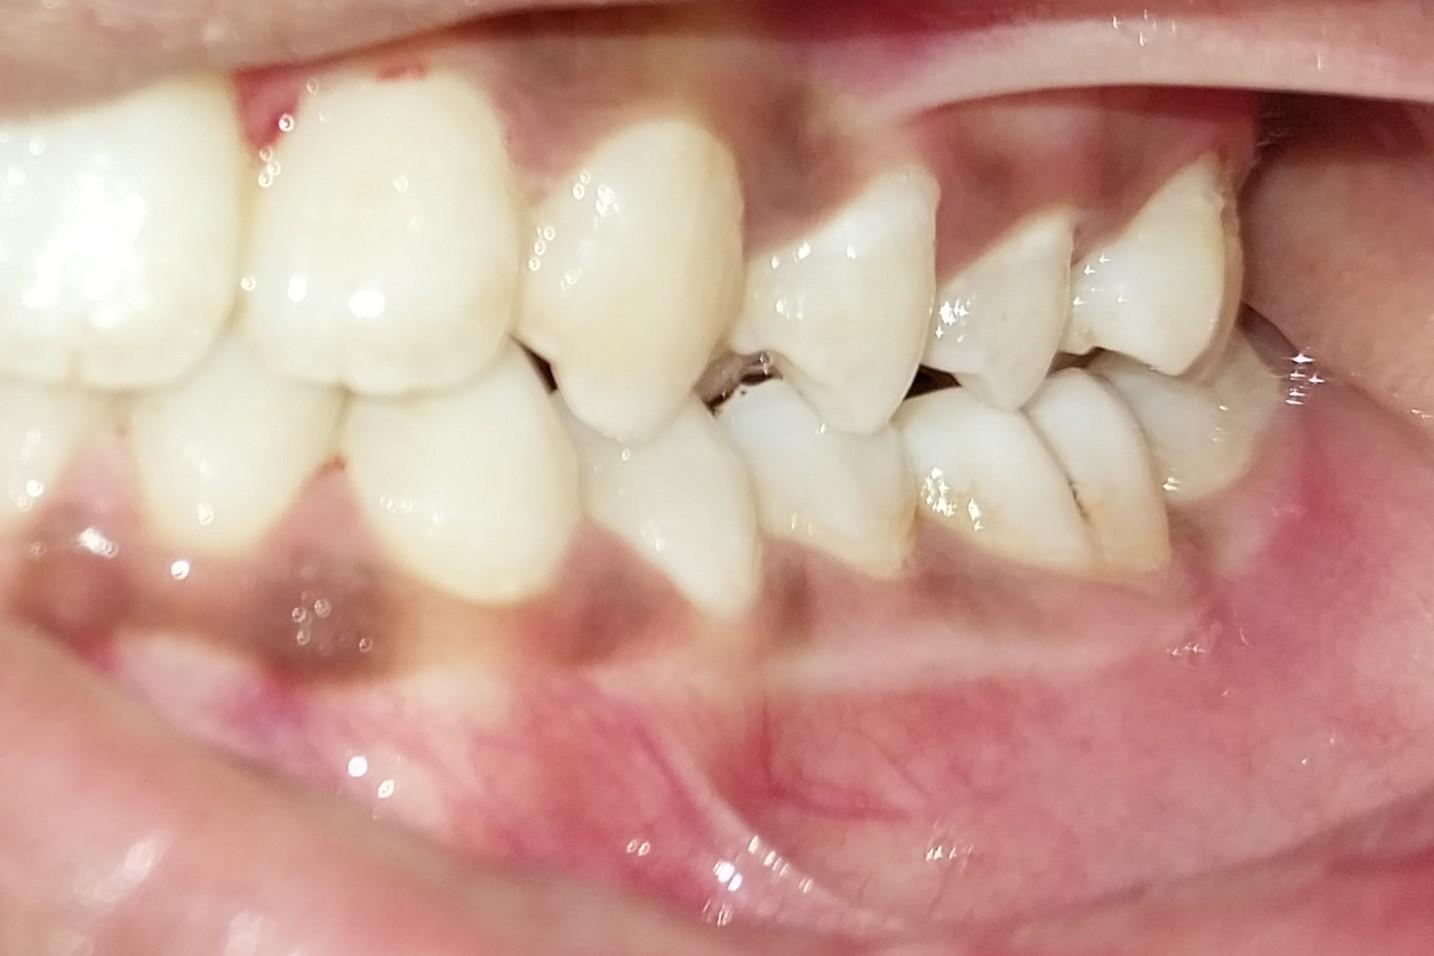D: (904, 390, 1176, 581)
